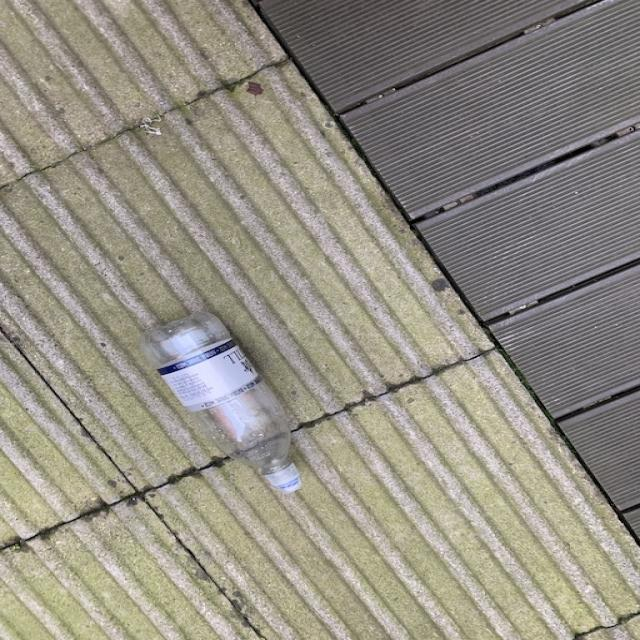Waste: (140, 312, 301, 494)
